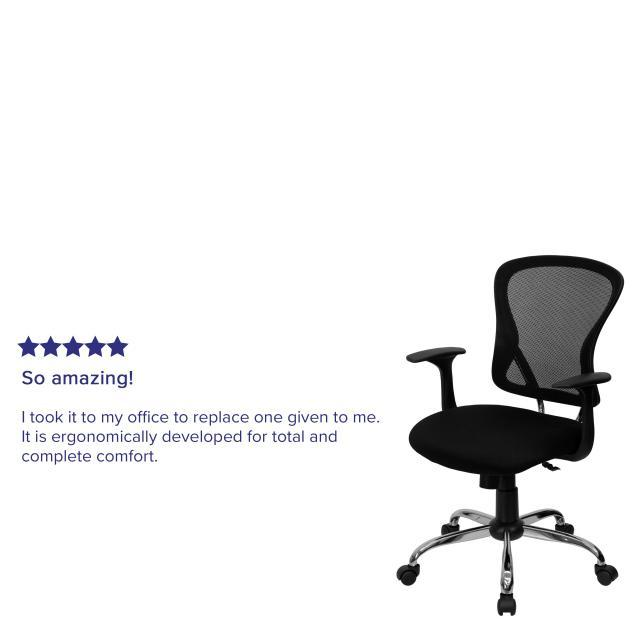chair: (394, 253, 628, 616)
